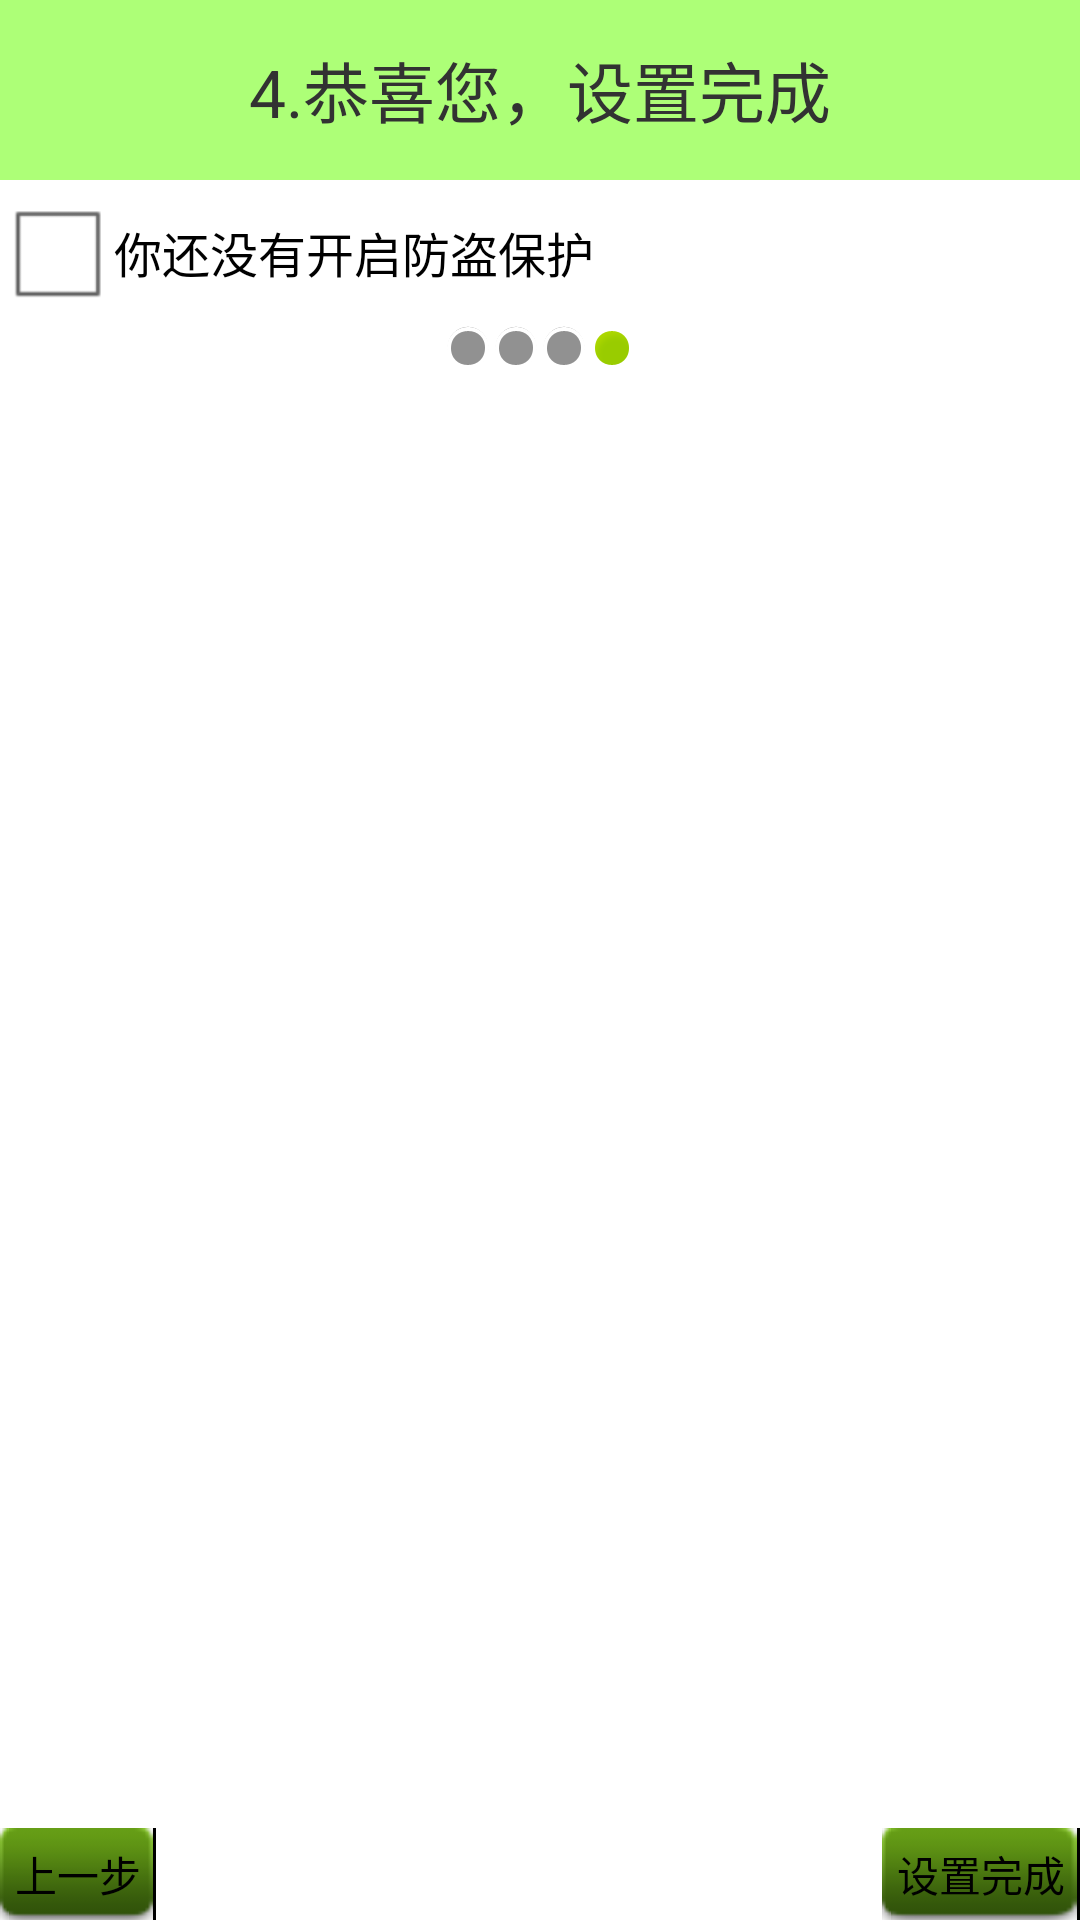

Screen size 1080×1920. Icon name, then its center in pixels as (x=x, y=y):
presence invisible: (x=468, y=346), (x=516, y=346), (x=564, y=346)
presence online: (x=612, y=348)
